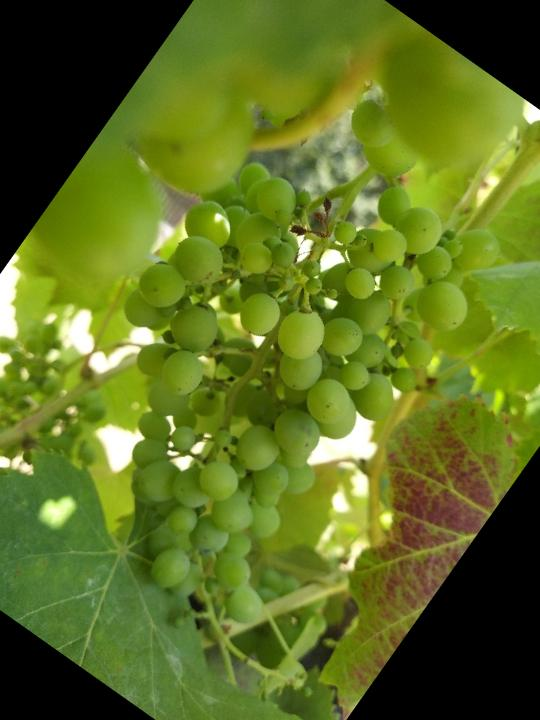grape: (0, 72, 522, 664)
